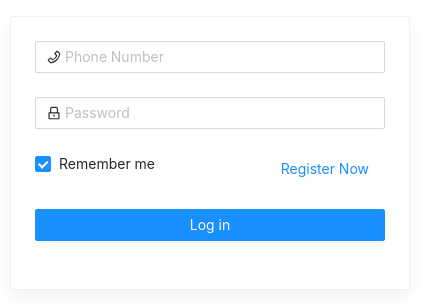
Test case: Login Form Test › should prevent non-standard input
Type "12345" into the field with placeholder "Phone Number". click: (219, 57)
box: [65,46,373,68]
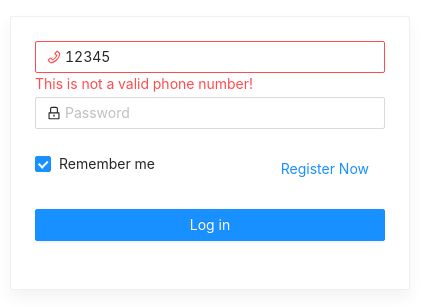
Check: the message "This is not a valid phone number!" is shown, box [35,75,253,92]
